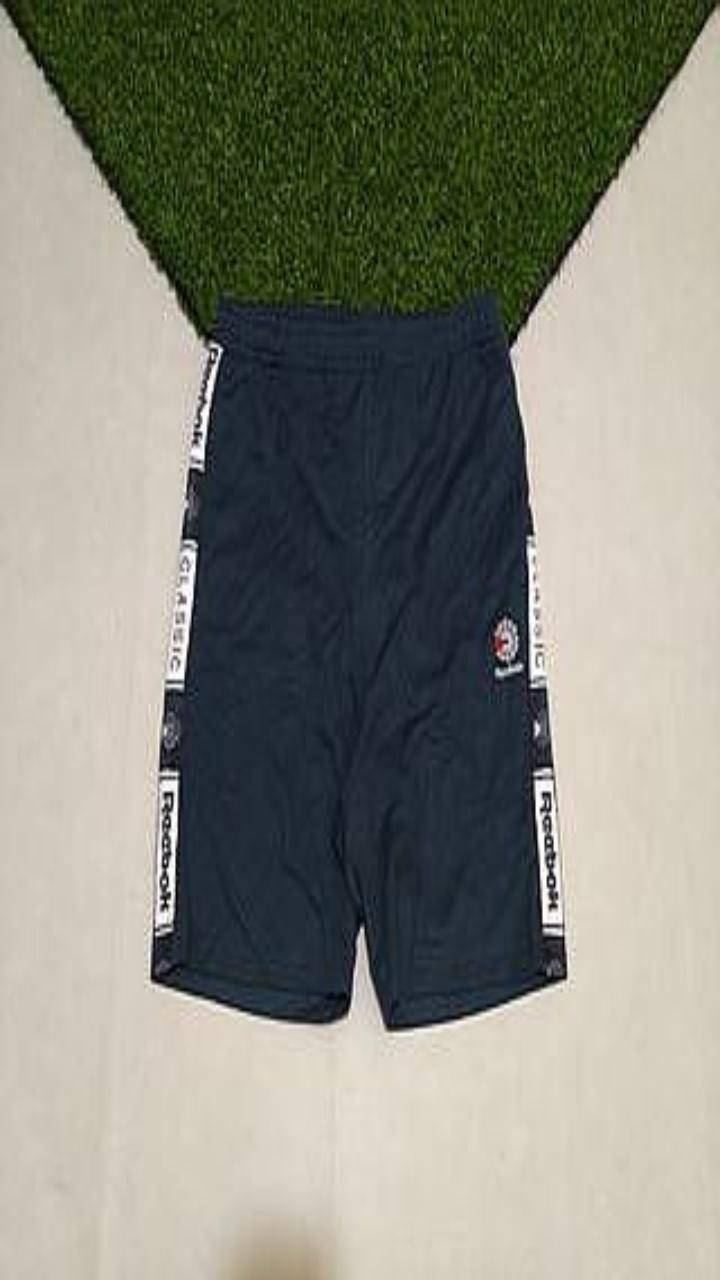Shorts: (151, 293, 565, 1027)
